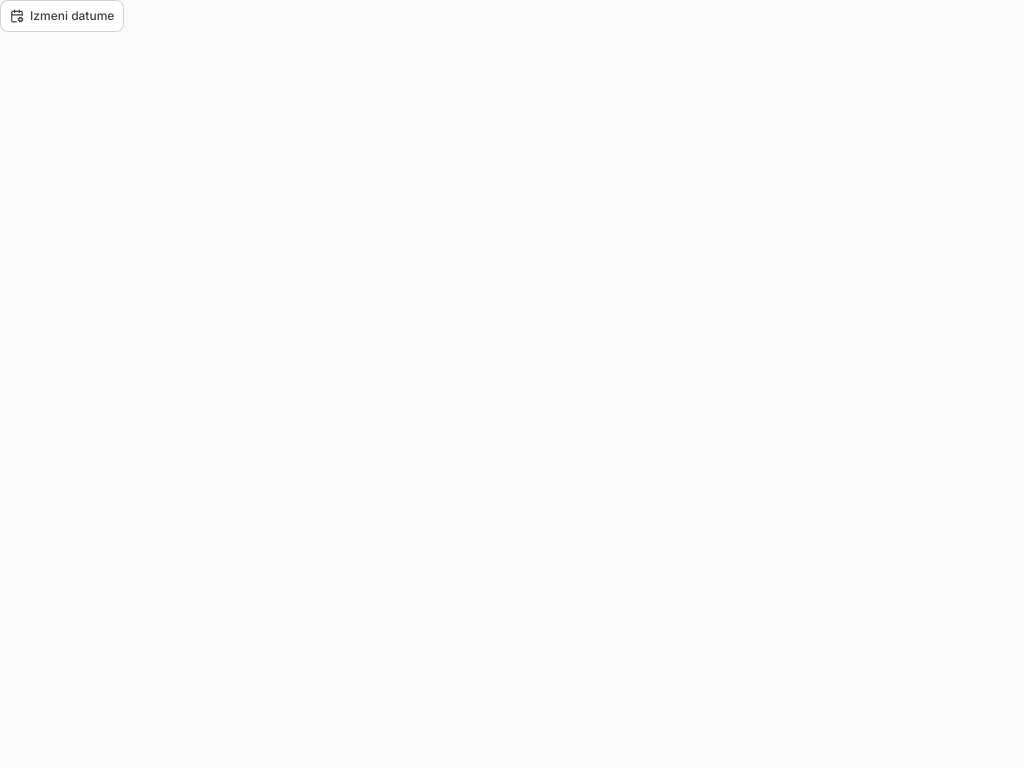
Test: EditPeriodDates › skraćen kraj: sledeći period počinje dan posle, šalju se novi datumi
The image size is (1024, 768).
Later steps or results of the test are not shown.
Click the button "Izmeni datume" at (62, 16), box [0, 0, 124, 32]
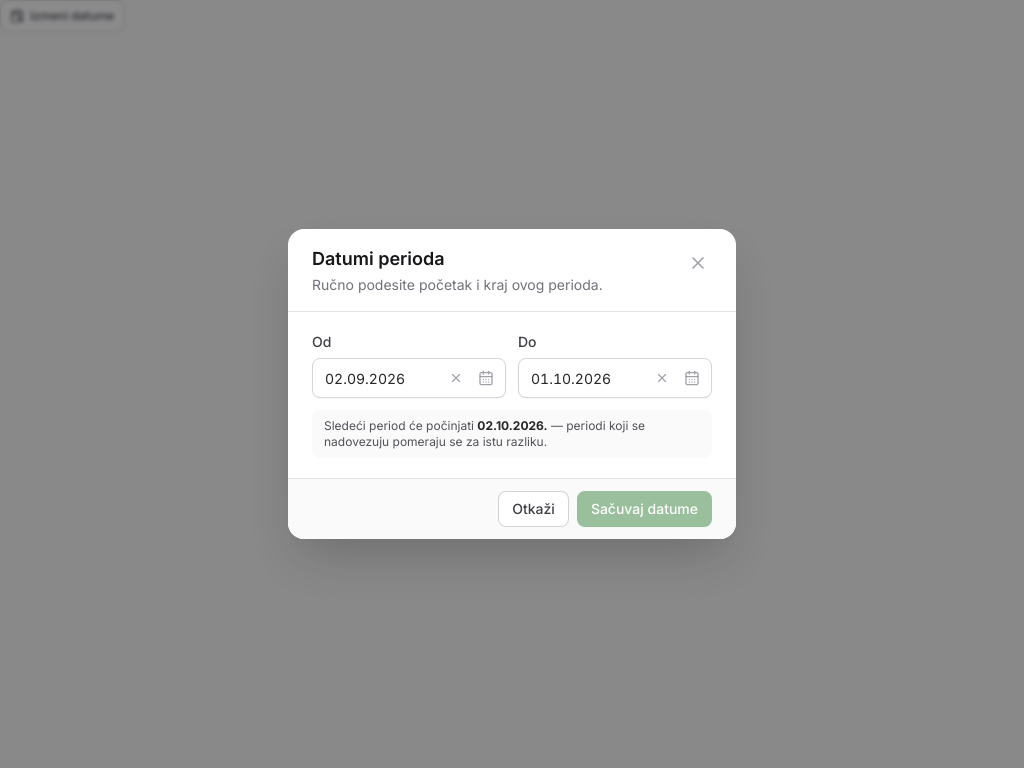
Click the field labelled "Do" at (615, 378), box [518, 358, 712, 398]
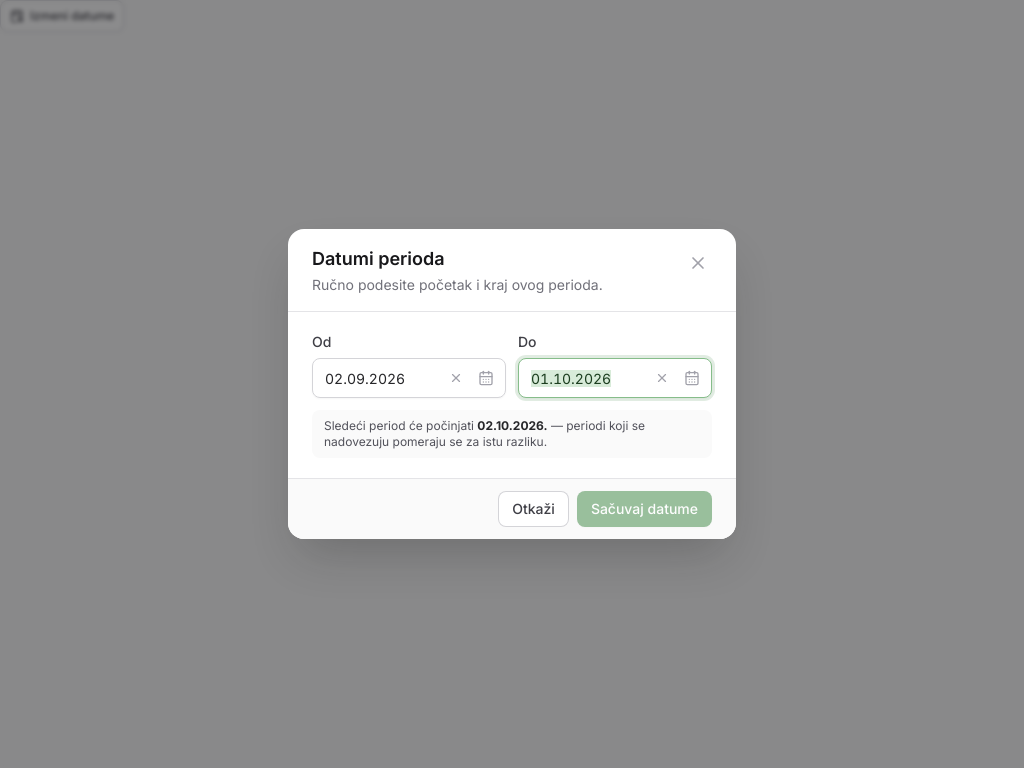
Type keys "25092026"
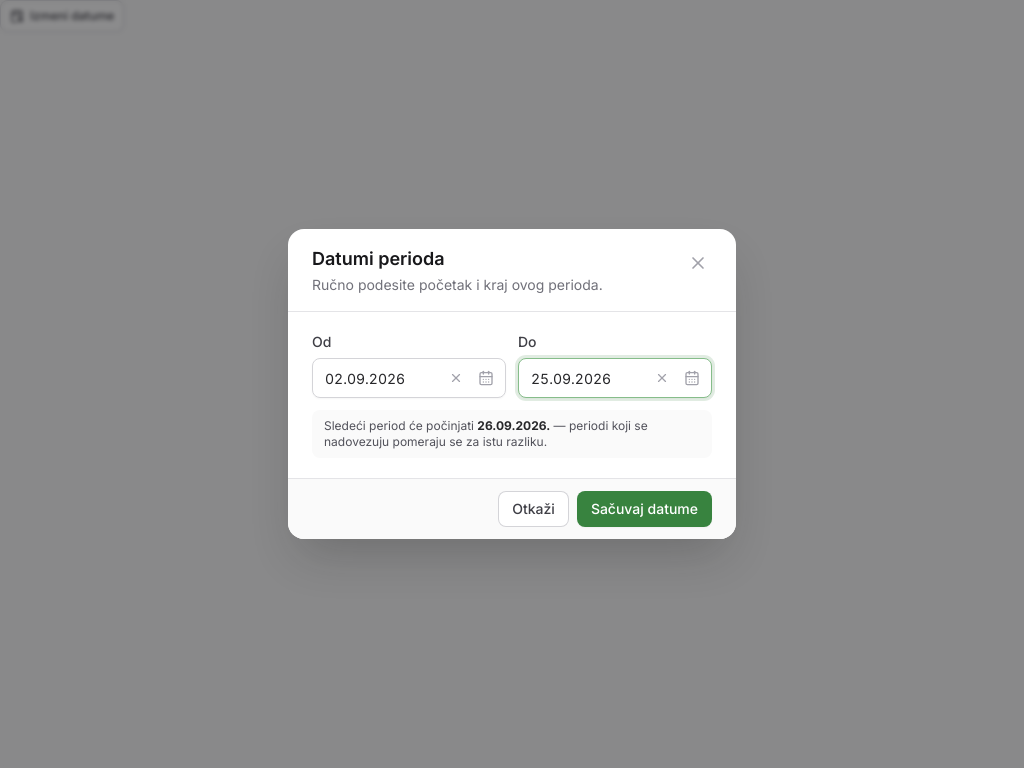
expect the text "26.09.2026." is shown: met, box [477, 418, 550, 433]
